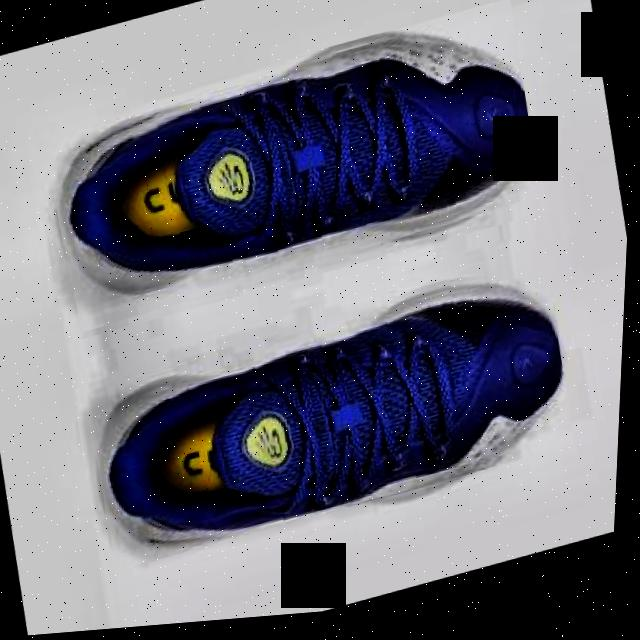shoe: (33, 4, 552, 339), (78, 257, 586, 577)
